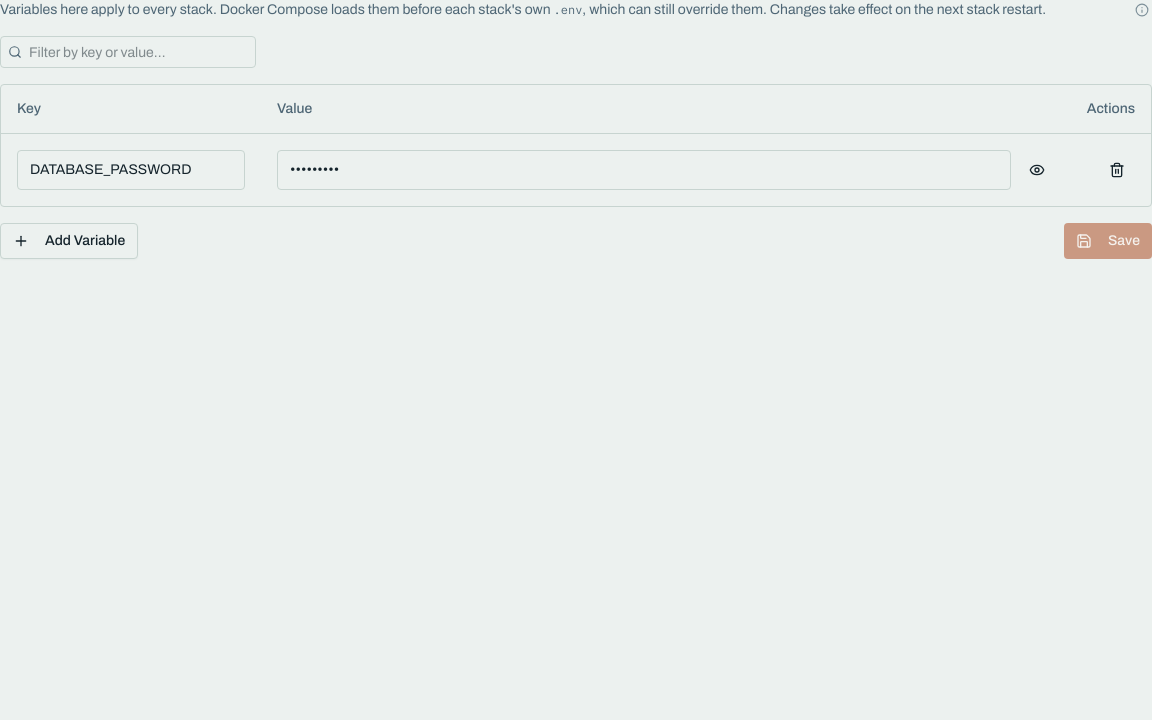
it: GlobalEnvSettingsContent › prompts for password before revealing a sensitive value when locked
This screenshot has width=1152, height=720.
Click the button named "show value".
click(1037, 170)  # box x1=1019 y1=152 x2=1055 y2=188
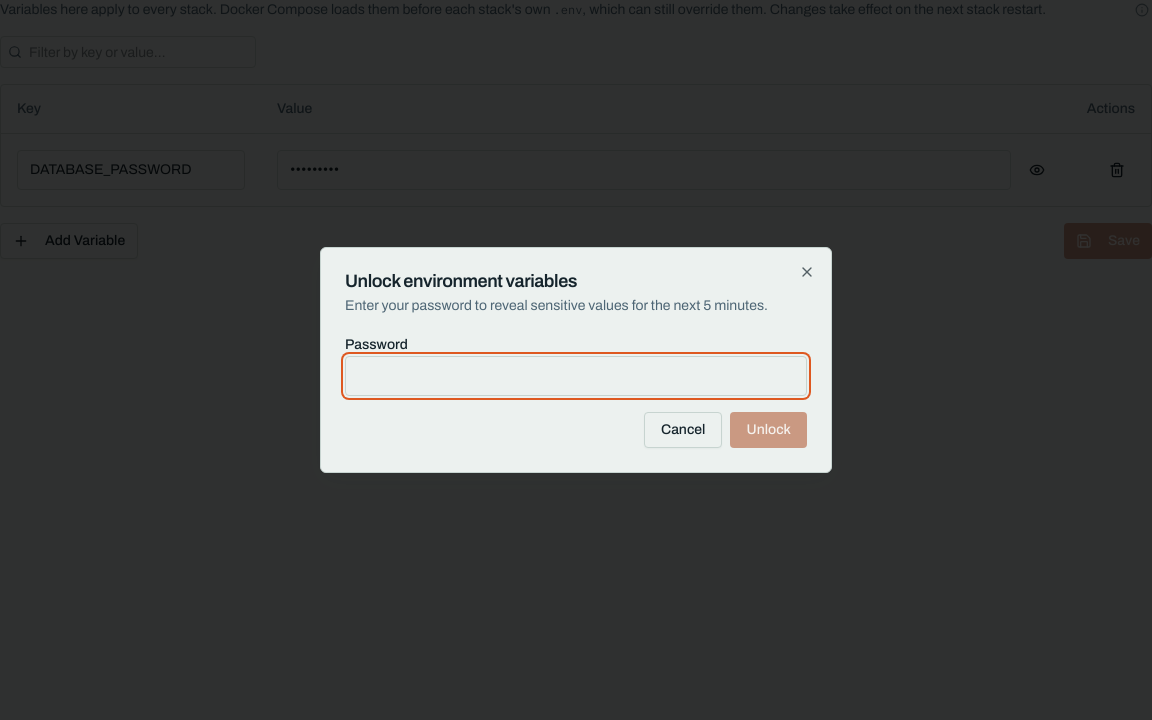
Expected: the heading "Unlock environment variables" is shown, x1=345 y1=271 x2=577 y2=291
